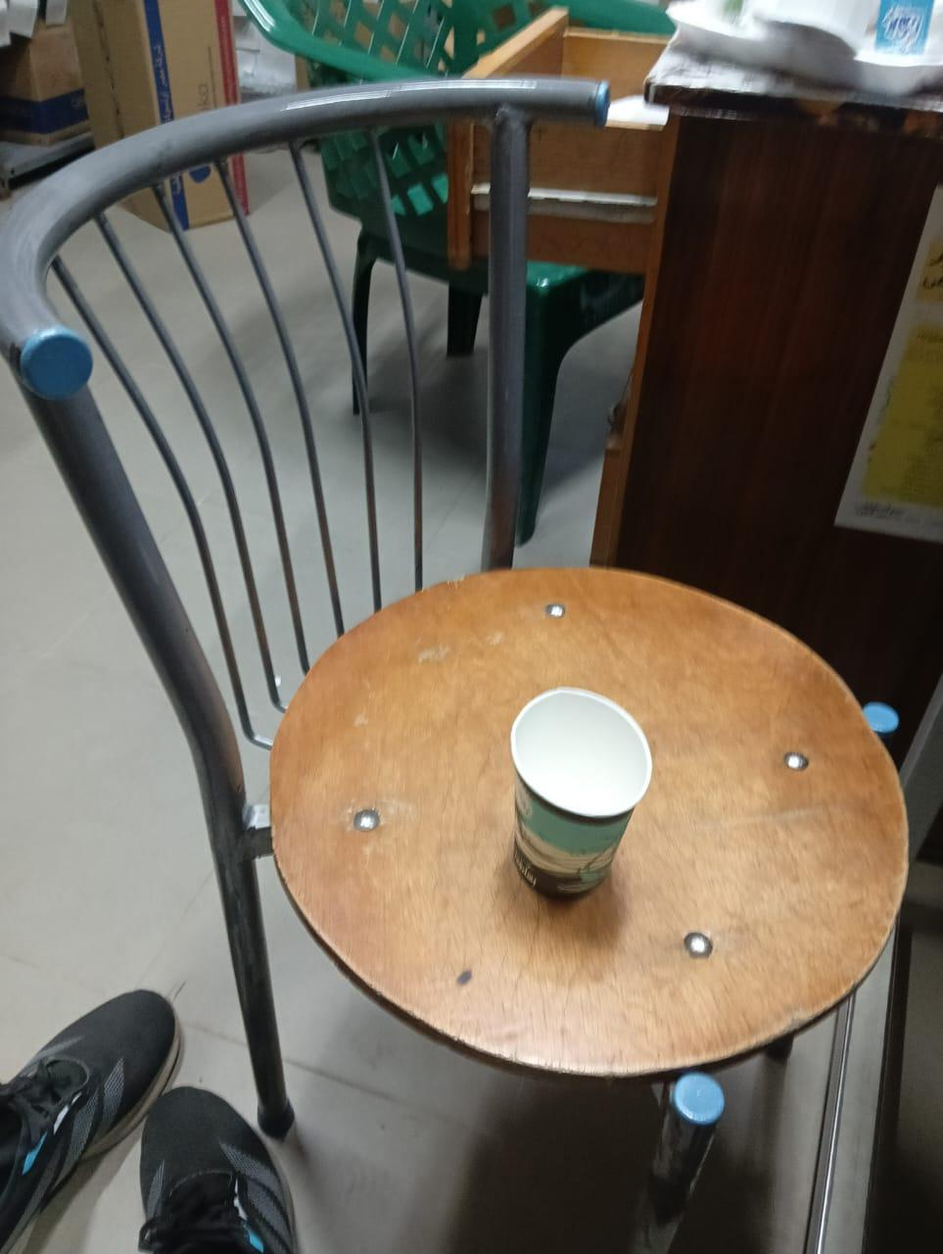cup: (510, 688, 651, 895)
